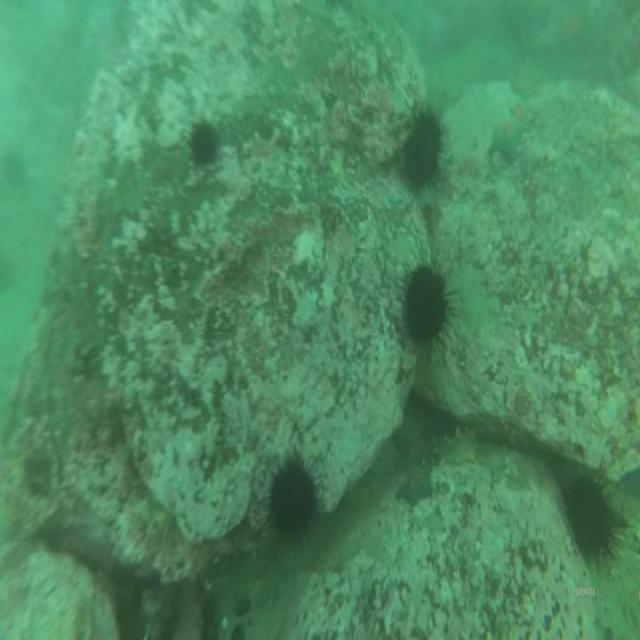echinus: (567, 479, 611, 556), (406, 265, 446, 340), (404, 109, 439, 185), (271, 468, 312, 531), (190, 126, 217, 164)
starfish: (487, 114, 529, 156), (397, 422, 434, 465), (398, 469, 430, 506)
